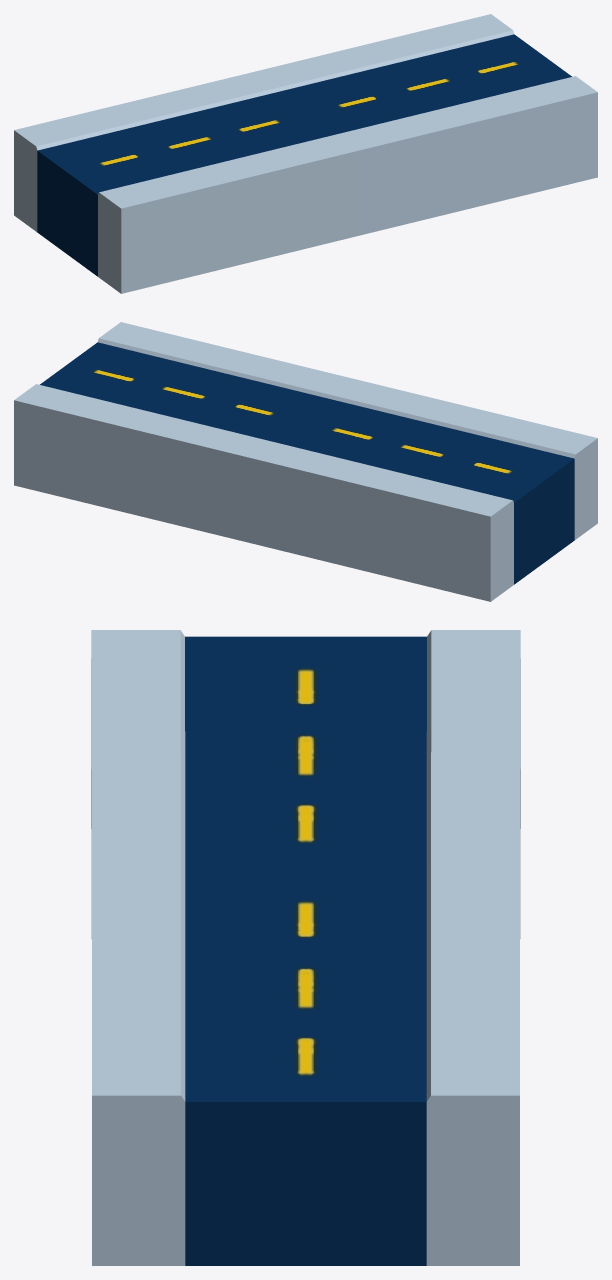
The model's file is road.fbx.
3 views of the same model, one above another, from view 1: azimuth 30°, elevation 25°; view 2: azimuth 150°, elevation 25°; view 3: azimuth 270°, elevation 25° (orthographic). The views are drawn at different scales.
Visible parts, largest first — view 1: Cube.001; view 2: Cube.001; view 3: Cube.001.
Part boxes in pixels (x1,y1,x2,y2): Cube.001: (14, 14, 597, 293); Cube.001: (14, 322, 597, 601); Cube.001: (91, 630, 520, 1265).
Size of the model in its own units: 3832 by 655 by 1493.
Materials: 2 (1 with a texture image).
